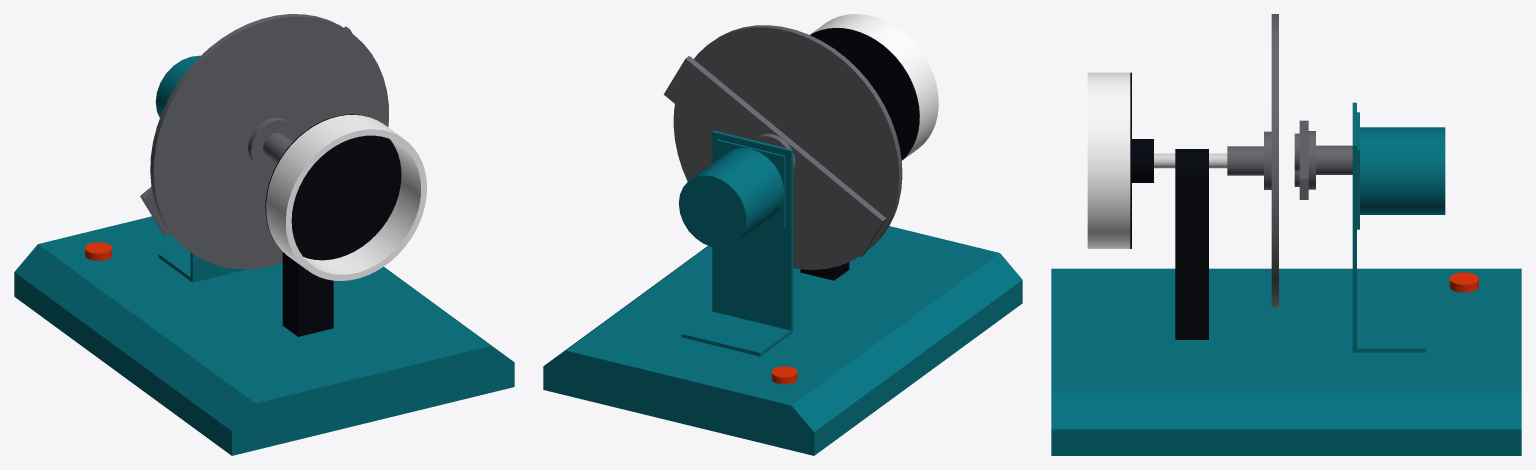
Rendered from qudong.glb.
3 renders of one model, left to right at view 1: azimuth 30°, elevation 25°; view 2: azimuth 150°, elevation 25°; view 3: azimuth 270°, elevation 25°, orthographic. The views are drawn at different scales.
Parts seen in each view (by area): view 1: 电磁底座-1, 电磁大圆-1, 圆盘-1, 圆环-1, 两圆连接杆-1; view 2: 电磁底座-1, 电磁大圆-1, 电磁磁铁-1, 圆盘-1, 圆环-1; view 3: 电磁底座-1, 圆环-1, 两圆连接杆-1, 电磁大圆-1, 电磁磁铁-1, 圆盘-1, 轴-1, 按钮-1.
Boxes of the visible parts, bbox=[...] form: 电磁底座-1: bbox=[14, 55, 514, 455]; 电磁大圆-1: bbox=[150, 14, 388, 269]; 圆盘-1: bbox=[265, 114, 401, 260]; 圆环-1: bbox=[266, 114, 426, 280]; 两圆连接杆-1: bbox=[282, 252, 333, 336]; 电磁底座-1: bbox=[543, 130, 1022, 455]; 电磁大圆-1: bbox=[673, 25, 902, 269]; 电磁磁铁-1: bbox=[663, 56, 886, 256]; 圆盘-1: bbox=[810, 27, 919, 160]; 圆环-1: bbox=[810, 14, 938, 160]; 电磁底座-1: bbox=[1051, 102, 1521, 455]; 圆环-1: bbox=[1087, 72, 1130, 248]; 两圆连接杆-1: bbox=[1175, 149, 1208, 339]; 电磁大圆-1: bbox=[1227, 14, 1278, 307]; 电磁磁铁-1: bbox=[1294, 120, 1352, 199]; 圆盘-1: bbox=[1130, 72, 1153, 248]; 轴-1: bbox=[1154, 153, 1227, 168]; 按钮-1: bbox=[1449, 272, 1478, 292].
Size of what is drawn, in the model's own units: 0.24 by 0.2774 by 0.32.
